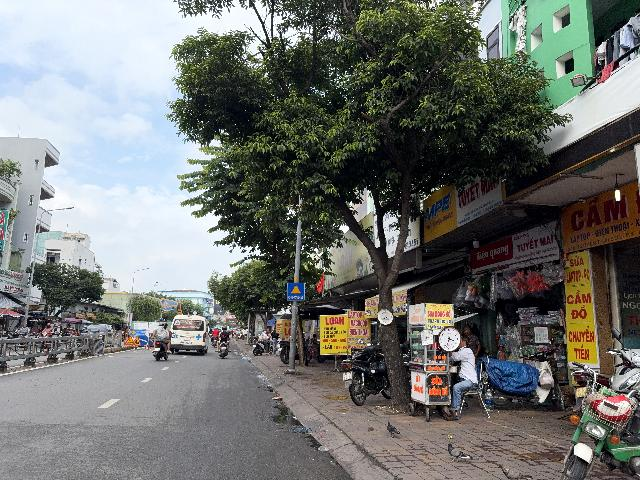khu-vuc-cho-phia-truoc: (287, 282, 305, 300)
